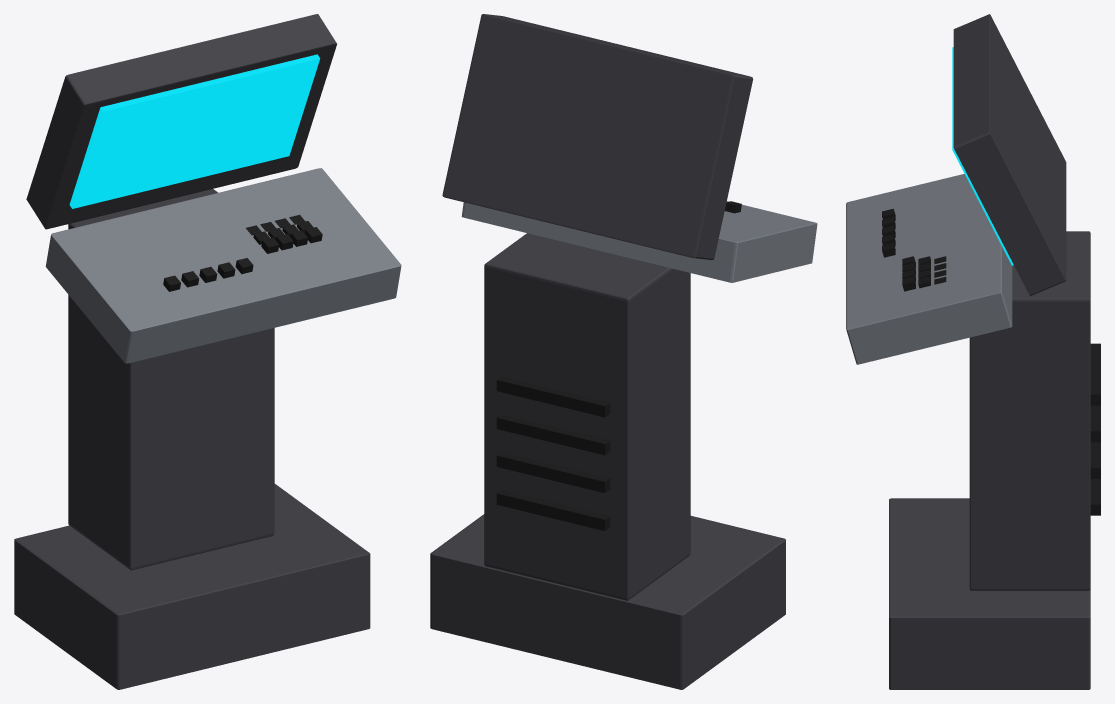
The model's file is terminal.glb.
3 views of the same model, side by side, from view 1: azimuth 30°, elevation 25°; view 2: azimuth 150°, elevation 25°; view 3: azimuth 270°, elevation 25° (orthographic). The views are drawn at different scales.
Parts seen in each view (by area): view 1: Terminal_Chassis, Terminal_Screen; view 2: Terminal_Chassis; view 3: Terminal_Chassis, Terminal_Screen.
Part boxes in pixels (x1,y1,x2,y2): Terminal_Chassis: [14, 14, 401, 689]; Terminal_Screen: [69, 54, 320, 208]; Terminal_Chassis: [430, 14, 817, 689]; Terminal_Chassis: [846, 14, 1100, 689]; Terminal_Screen: [952, 47, 1013, 265].
Size of the model in its own units: 0.75 by 1.52 by 0.6309.
